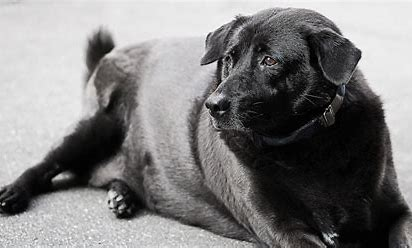dog: (3, 9, 405, 246)
